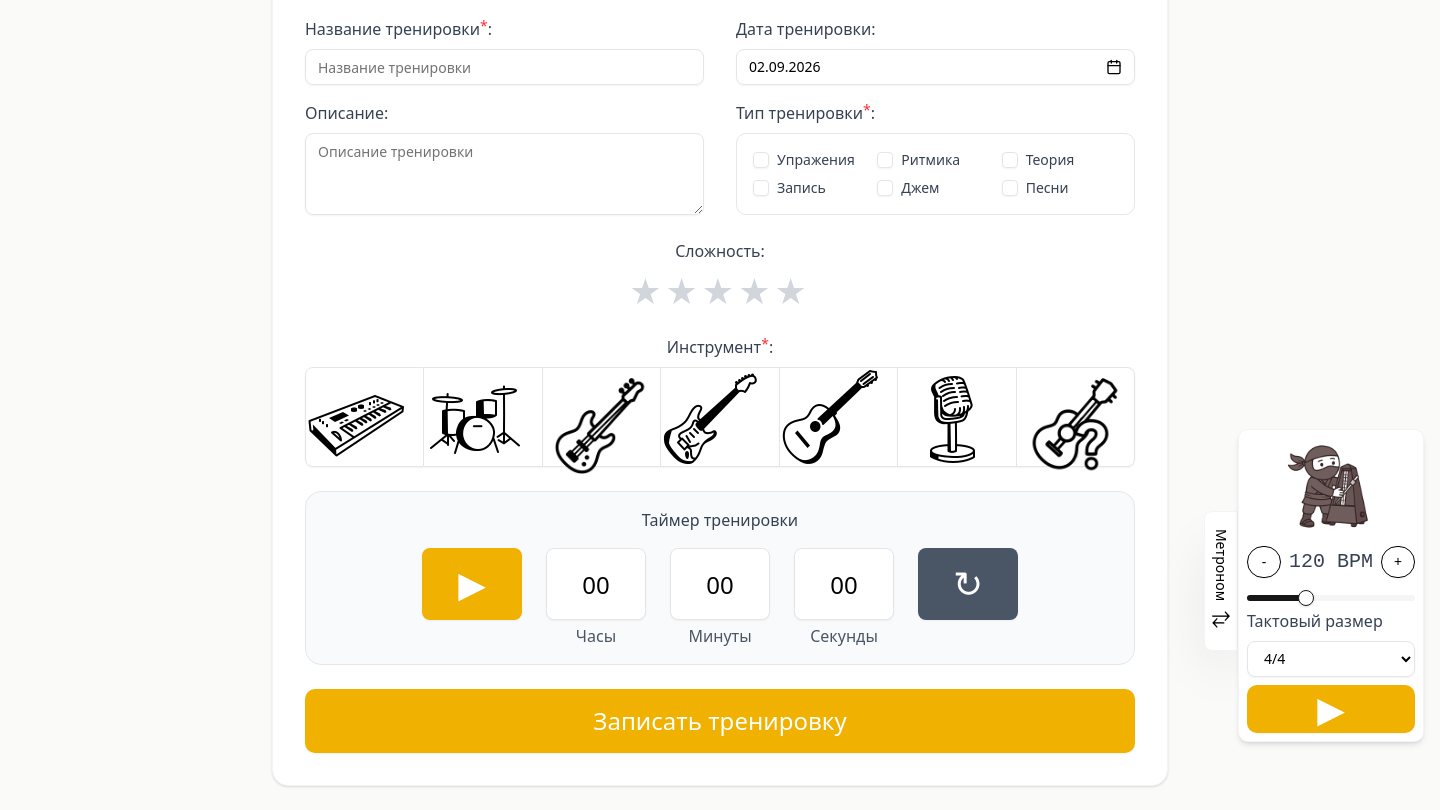
Test: NewTrainForm › показывает ошибку при пустой форме
(page scrolled)
Click the button "Записать тренировку" at (720, 721), box [305,689,1135,753]
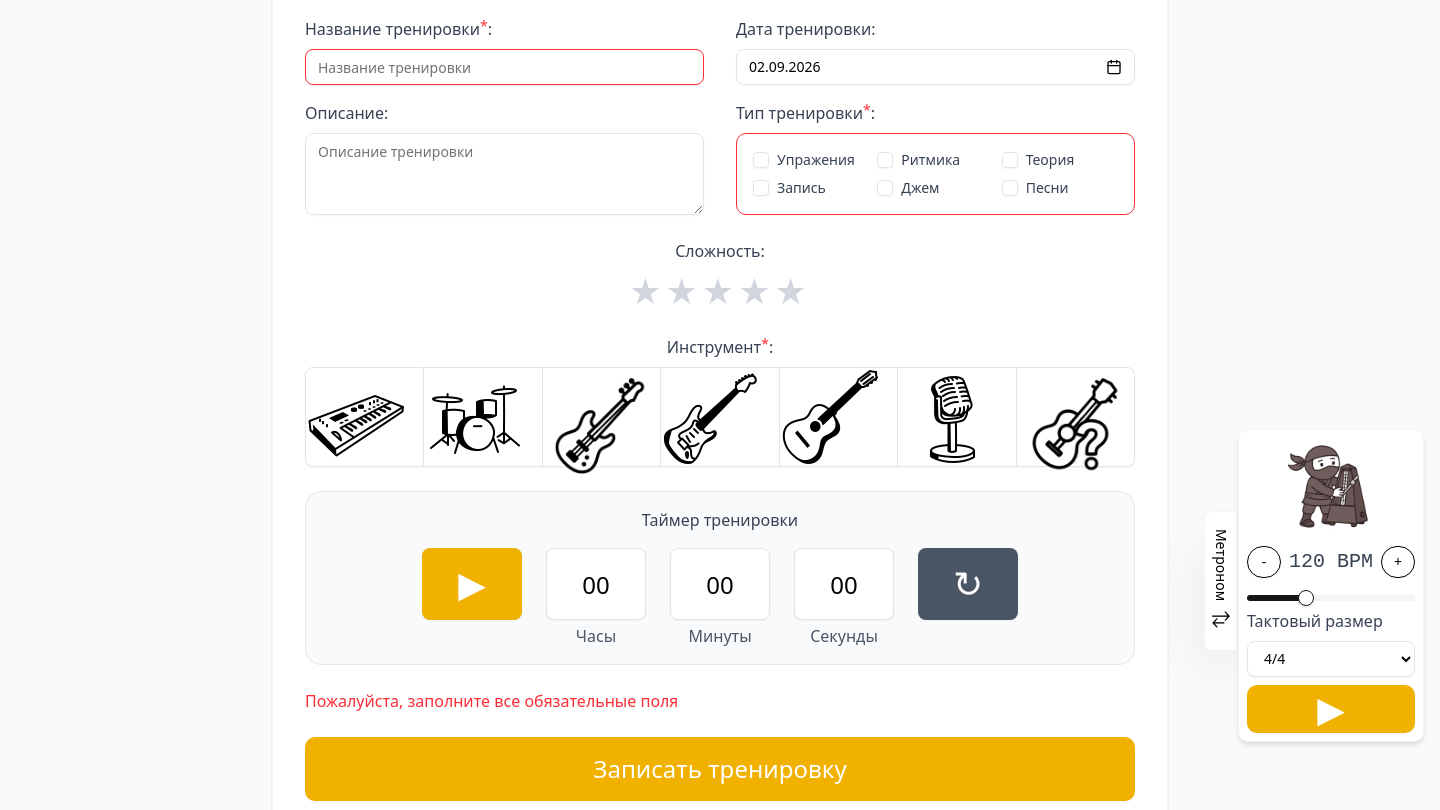
expect the text "Пожалуйста, заполните все обязательные поля" is shown: met, box [305,690,678,712]
